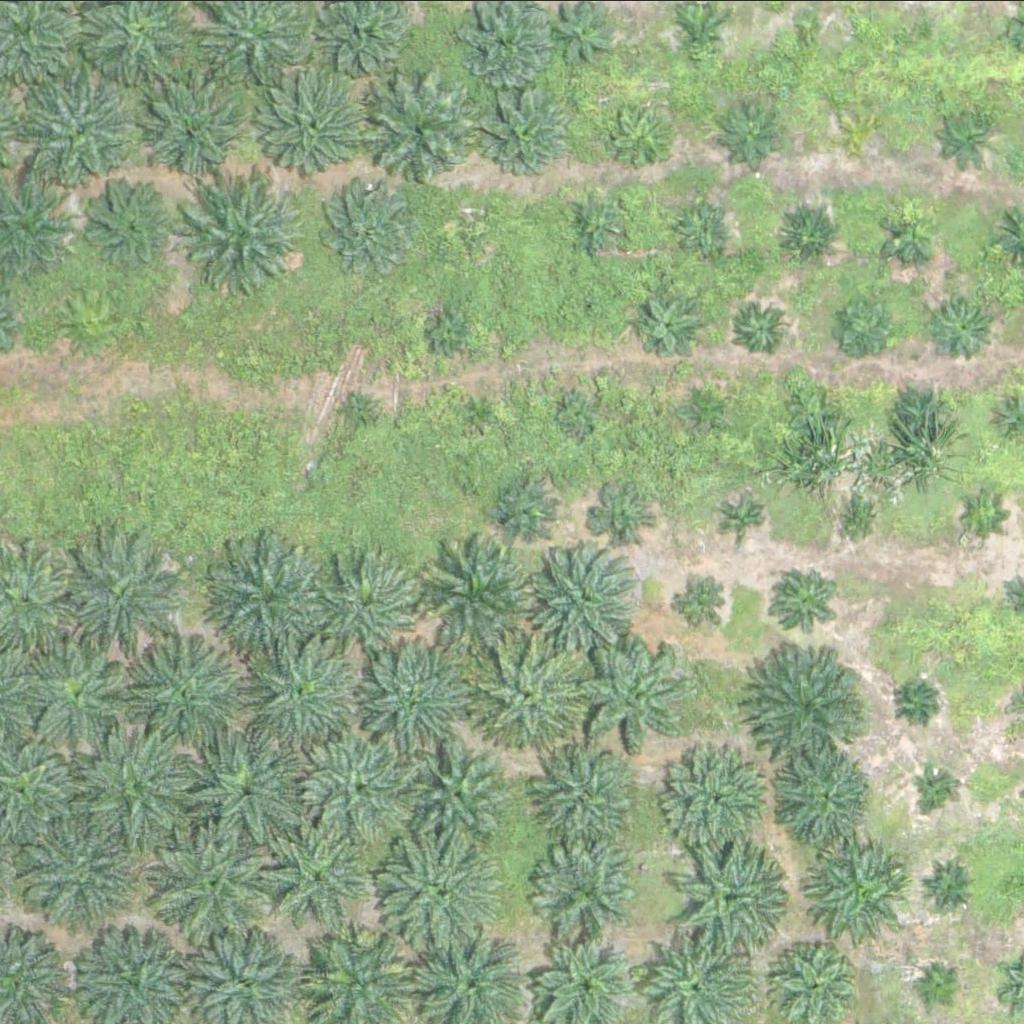Kelapa_Sawit: (153, 822, 279, 947), (21, 815, 147, 940), (84, 726, 210, 851), (187, 732, 313, 857), (309, 724, 435, 849), (360, 637, 486, 762), (246, 629, 372, 754), (125, 634, 251, 759), (63, 532, 189, 657), (208, 536, 334, 661), (428, 525, 554, 650), (179, 176, 305, 301), (667, 831, 793, 956), (380, 824, 505, 949), (748, 635, 873, 760), (362, 77, 475, 190), (575, 635, 688, 748), (661, 746, 774, 859), (25, 73, 138, 185), (258, 71, 371, 183), (535, 539, 648, 651), (470, 635, 583, 747), (811, 838, 924, 950), (271, 824, 372, 924), (323, 550, 424, 650), (318, 180, 419, 280), (146, 77, 247, 177), (772, 749, 873, 849), (537, 743, 638, 843), (536, 844, 637, 944), (33, 643, 133, 743), (419, 752, 508, 839), (83, 181, 171, 268), (486, 84, 574, 171), (828, 293, 904, 368), (764, 561, 839, 636), (892, 382, 955, 445), (591, 486, 654, 549), (493, 476, 556, 539), (721, 102, 784, 165), (776, 203, 839, 266), (566, 193, 629, 256), (933, 298, 996, 360), (938, 100, 1001, 162), (635, 297, 698, 359), (548, 1, 611, 63), (611, 103, 674, 165), (681, 572, 732, 622), (671, 7, 722, 57), (790, 384, 841, 434), (885, 210, 935, 260), (924, 861, 974, 911), (737, 302, 787, 352), (678, 208, 728, 258), (919, 960, 969, 1010), (966, 489, 1004, 527), (894, 682, 932, 720), (557, 396, 595, 434), (459, 392, 497, 430), (340, 391, 378, 429), (683, 389, 721, 427), (920, 766, 958, 803), (453, 206, 490, 244), (433, 311, 471, 348), (728, 499, 765, 536), (838, 495, 875, 532), (908, 14, 933, 39), (792, 14, 817, 39), (846, 119, 871, 144), (583, 292, 608, 317)
